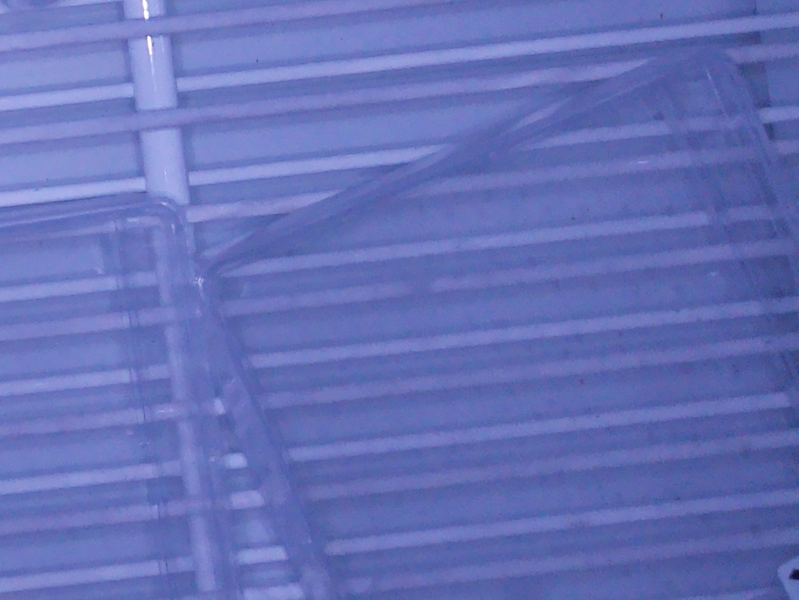plate: (188, 47, 799, 600), (1, 188, 248, 600)
